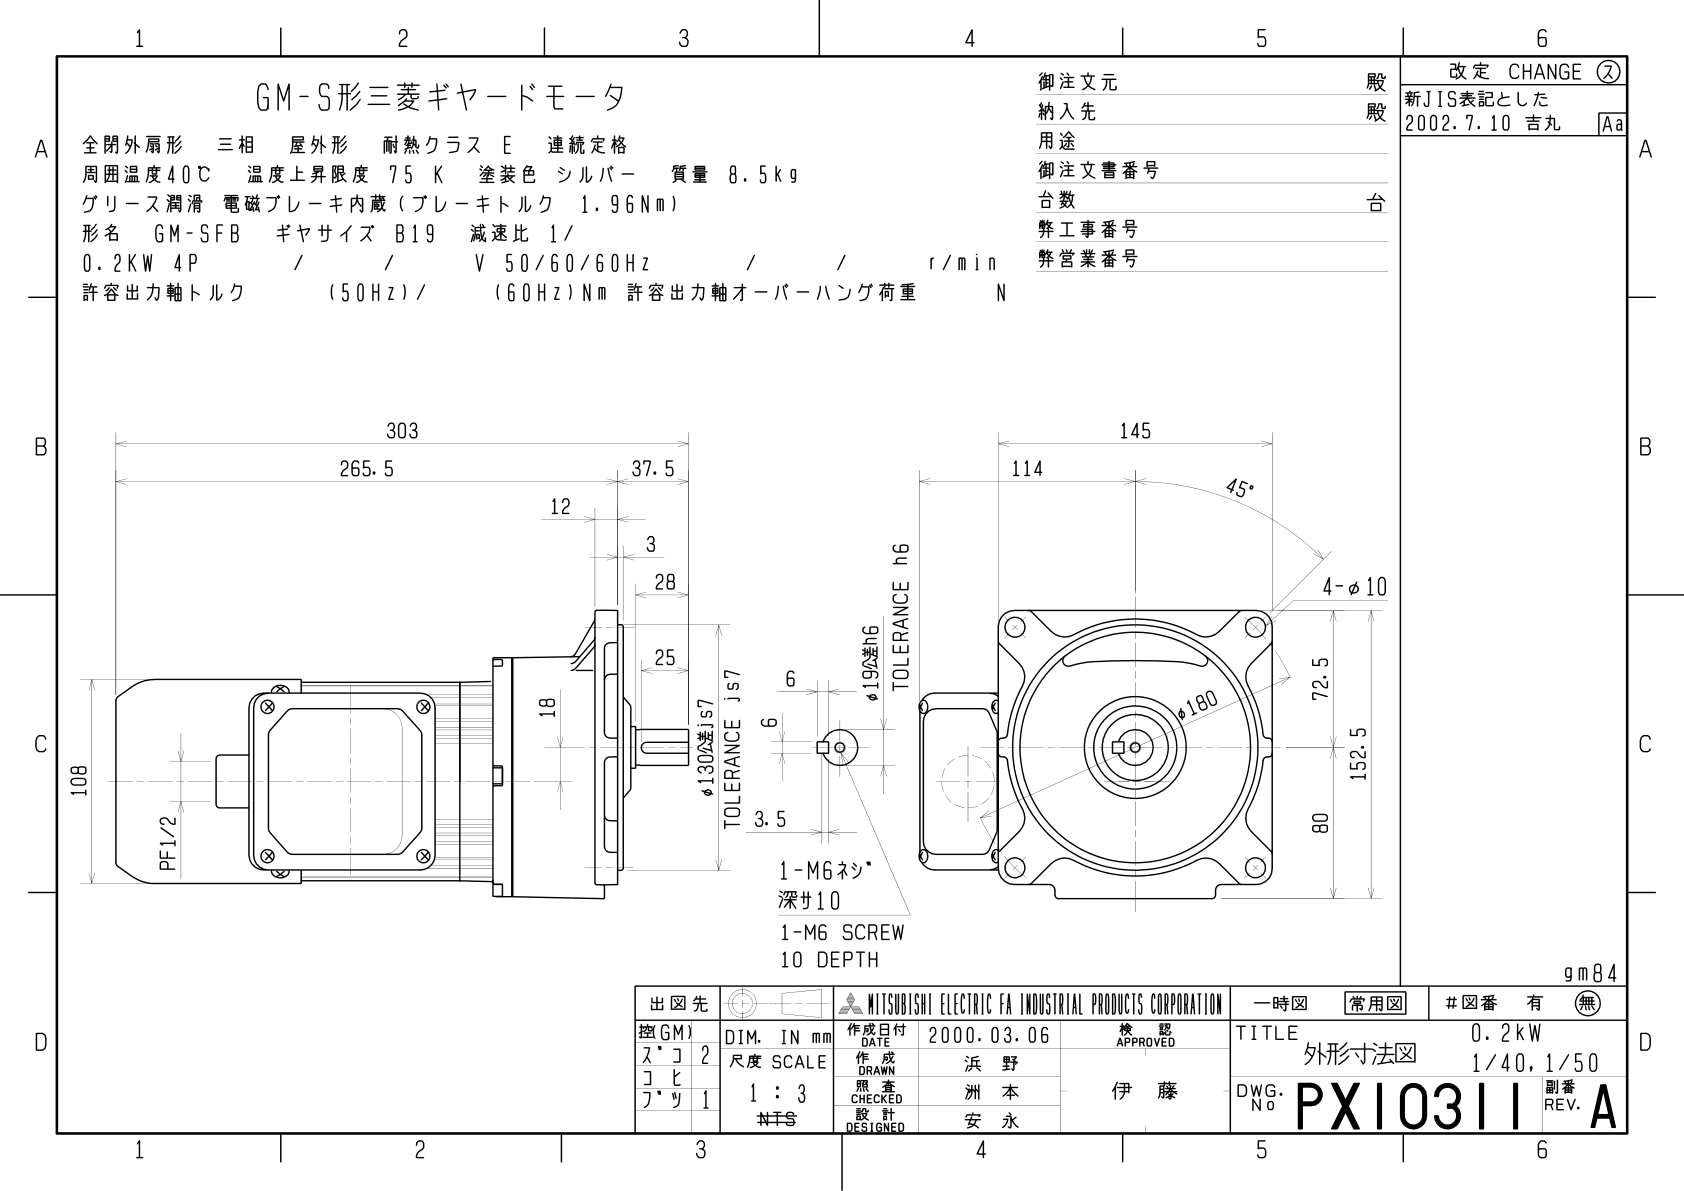GM_S_屋外＿三相_フランジ: (8, 12, 1678, 1191)
